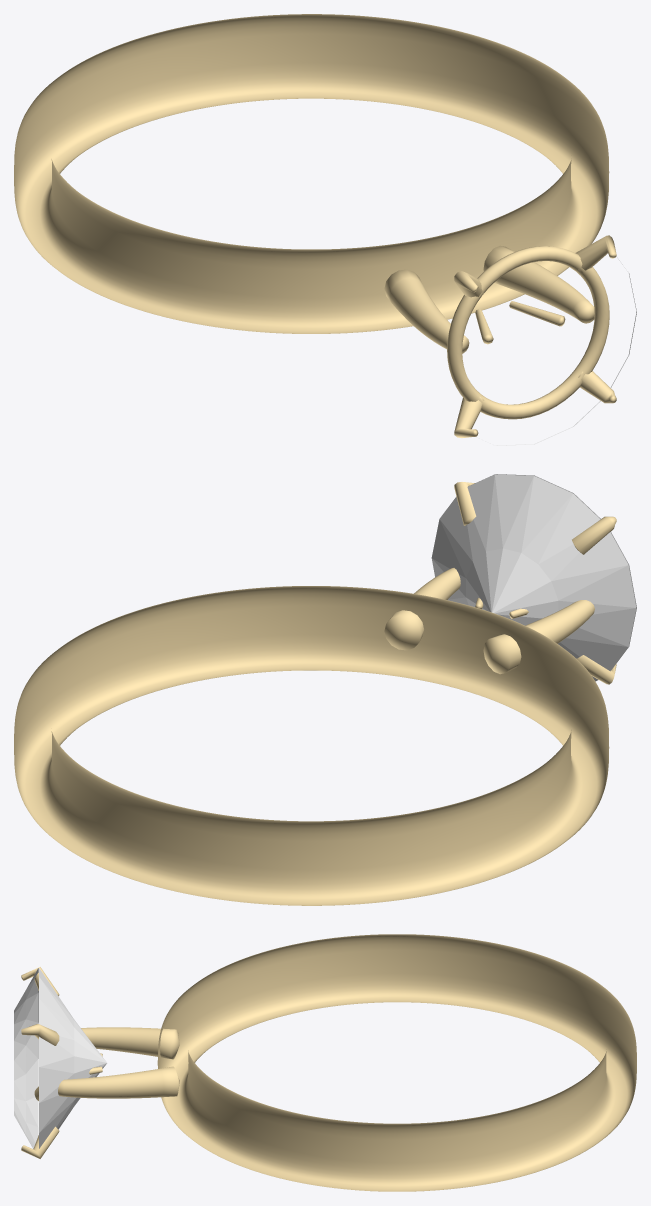
The model's file is ring.glb.
The picture shows the model from 3 angles, top to bottom: view 1: azimuth 30°, elevation 25°; view 2: azimuth 150°, elevation 25°; view 3: azimuth 270°, elevation 25°; orthographic projection. The views are drawn at different scales.
Visible parts, largest first — view 1: band; view 2: band, gem; view 3: band, gem.
Boxes of the visible parts, x1,y1,x2,y2 form: band: (14,14,616,437); band: (14,482,616,905); gem: (431,474,636,681); band: (21,934,636,1191); gem: (14,968,106,1148).
Bounding box in the file's own units: 0.78 × 0.31 × 1.01.
